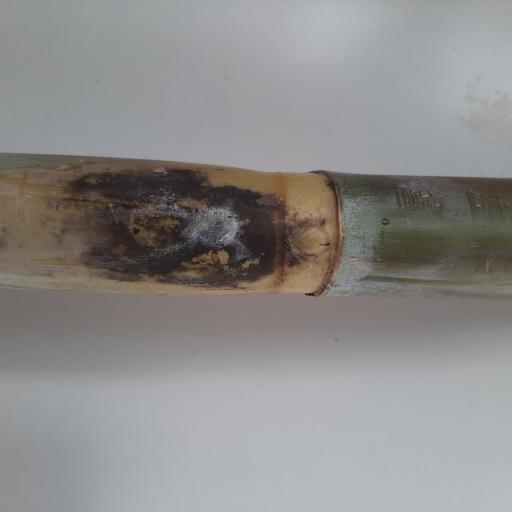Bud: (284, 219, 329, 256)
